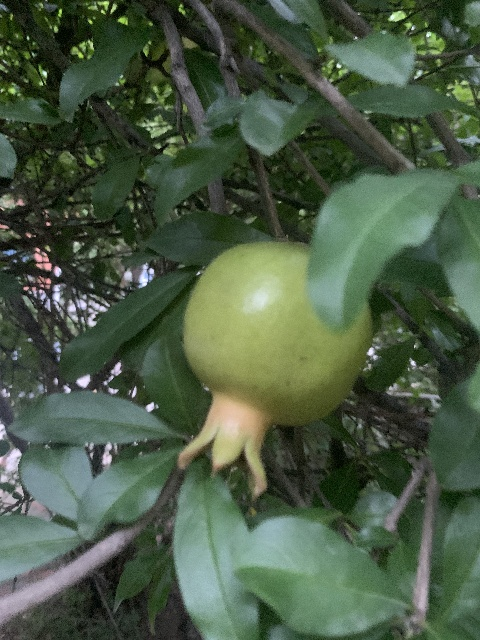mid-growth: (176, 240, 373, 500)
